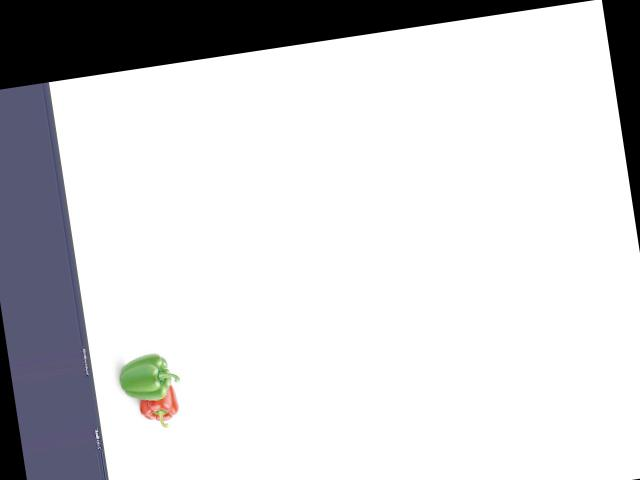bell_pepper: (138, 381, 186, 430)
